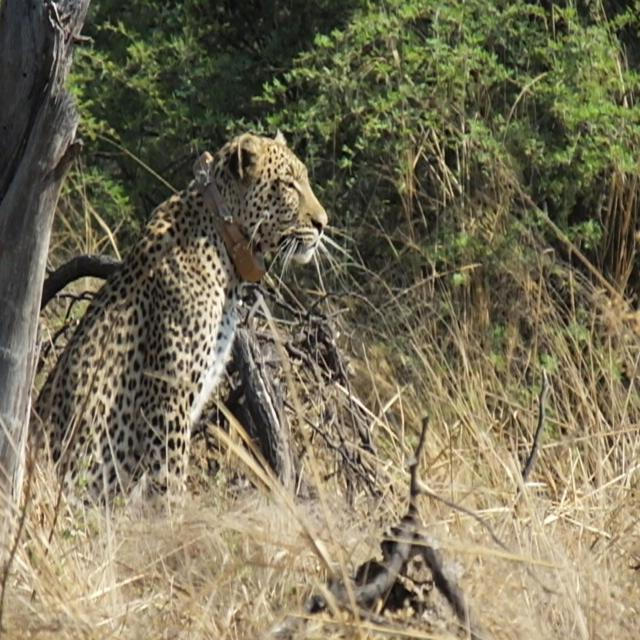Leopard: (34, 132, 333, 524)
